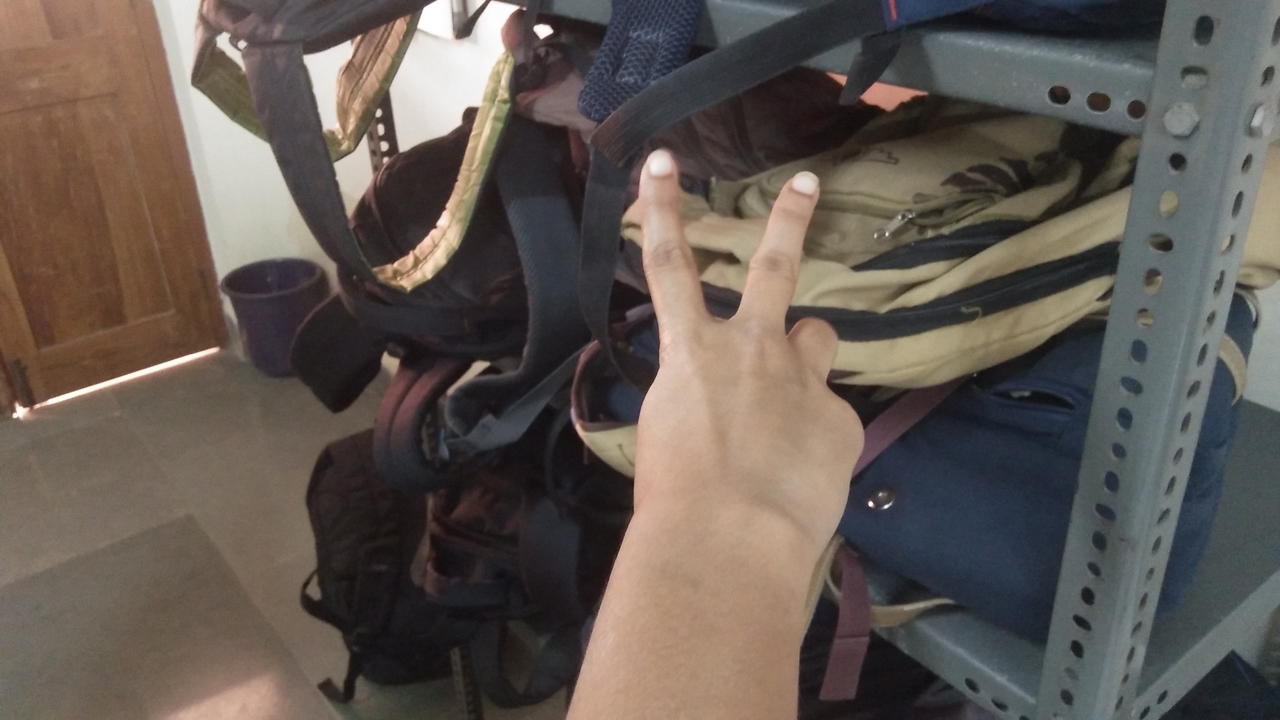fingertip: (626, 142, 690, 202), (774, 156, 830, 214)
